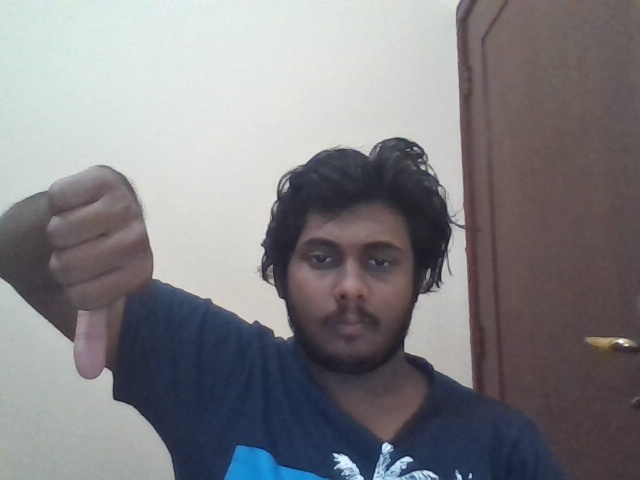thumbsdown: (45, 165, 155, 381)
